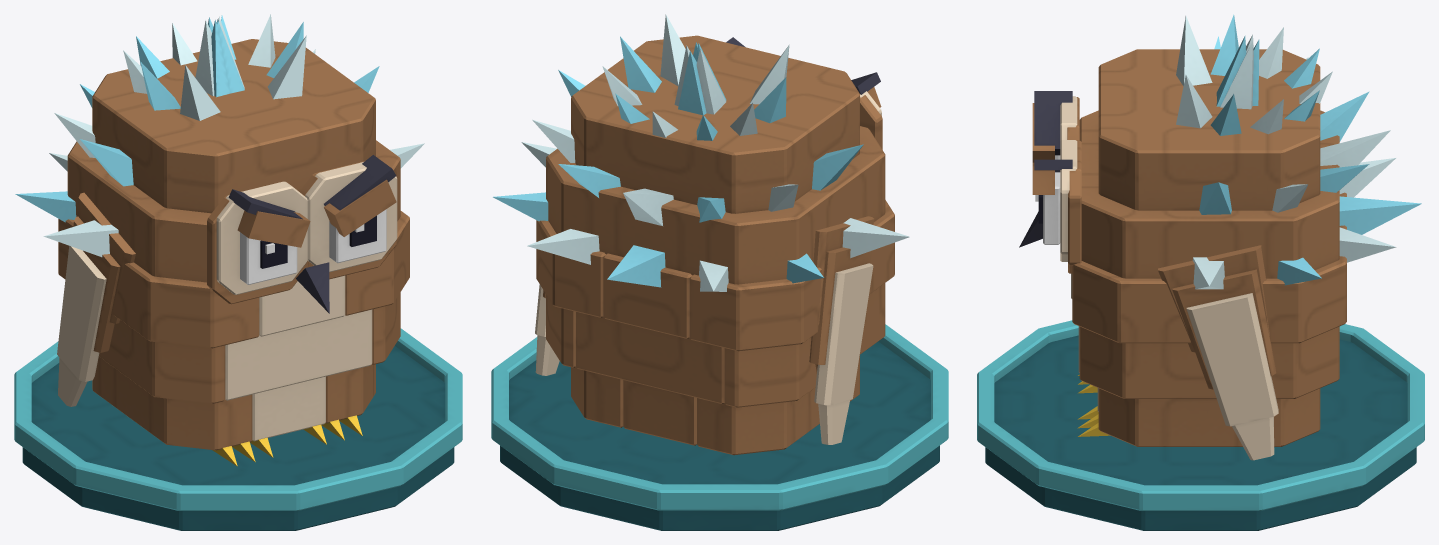
Rendered from HedgeOwl.fbx.
3 renders of one model, left to right at view 1: azimuth 30°, elevation 25°; view 2: azimuth 150°, elevation 25°; view 3: azimuth 270°, elevation 25°, orthographic. The views are drawn at different scales.
Parts seen in each view (by area): view 1: Art_HedgeOwl_Body, Art_HedgeOwl_Stand, Art_HedgeOwl_Face, Art_HedgeOwl_Quills, Art_HedgeOwl_WingR; view 2: Art_HedgeOwl_Body, Art_HedgeOwl_Stand, Art_HedgeOwl_Quills, Art_HedgeOwl_WingR, Art_HedgeOwl_Face, Art_HedgeOwl_WingL; view 3: Art_HedgeOwl_Body, Art_HedgeOwl_Stand, Art_HedgeOwl_Quills, Art_HedgeOwl_WingL, Art_HedgeOwl_Face.
Boxes of the visible parts, x1,y1,x2,y2 form: Art_HedgeOwl_Body: (58,39,409,466); Art_HedgeOwl_Stand: (14,328,462,530); Art_HedgeOwl_Face: (207,155,397,313); Art_HedgeOwl_Quills: (15,14,424,257); Art_HedgeOwl_WingR: (57,192,135,406); Art_HedgeOwl_Body: (536,35,894,455); Art_HedgeOwl_Stand: (491,324,948,530); Art_HedgeOwl_Quills: (493,14,909,291); Art_HedgeOwl_WingR: (809,216,874,444); Art_HedgeOwl_Face: (726,37,882,149); Art_HedgeOwl_WingL: (535,284,559,375); Art_HedgeOwl_Body: (1071,49,1346,446); Art_HedgeOwl_Stand: (977,320,1424,530); Art_HedgeOwl_Quills: (1176,14,1421,289); Art_HedgeOwl_WingL: (1158,245,1278,460); Art_HedgeOwl_Face: (1019,91,1081,273).
Bounding box in the file's own units: 2.61 × 2.6 × 2.61.
